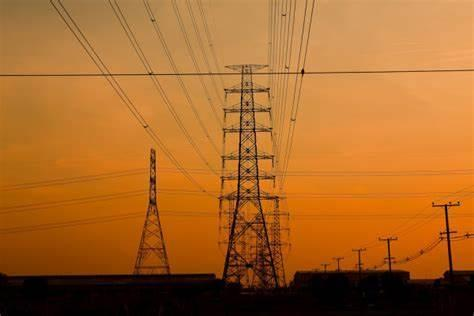power_tower: (213, 60, 292, 293), (133, 149, 173, 280)
